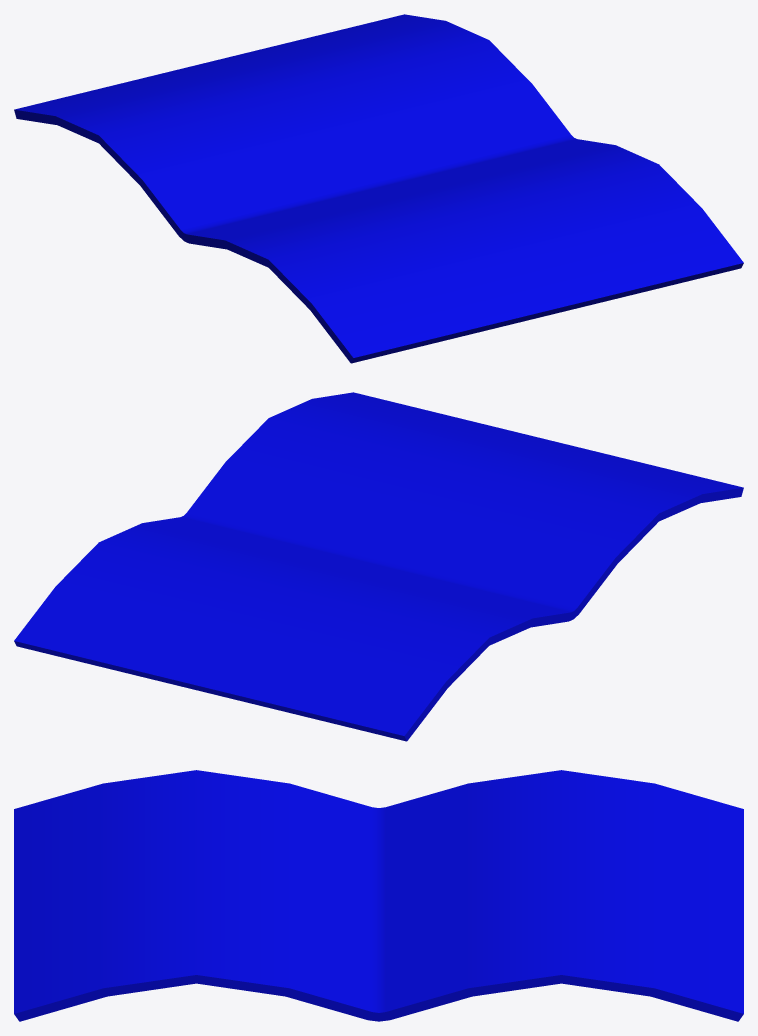
File: Magazine_Open.FBX
The picture shows the model from 3 angles, top to bottom: view 1: azimuth 30°, elevation 25°; view 2: azimuth 150°, elevation 25°; view 3: azimuth 270°, elevation 25°; orthographic projection. The views are drawn at different scales.
Parts seen in each view (by area): view 1: Magazine_Open; view 2: Magazine_Open; view 3: Magazine_Open.
Part boxes in pixels (x1,y1,x2,y2): Magazine_Open: (14, 14, 743, 363); Magazine_Open: (14, 392, 743, 741); Magazine_Open: (14, 770, 743, 1021).
Bounding box in the file's own units: 8.38 × 0.8954 × 12.61.
